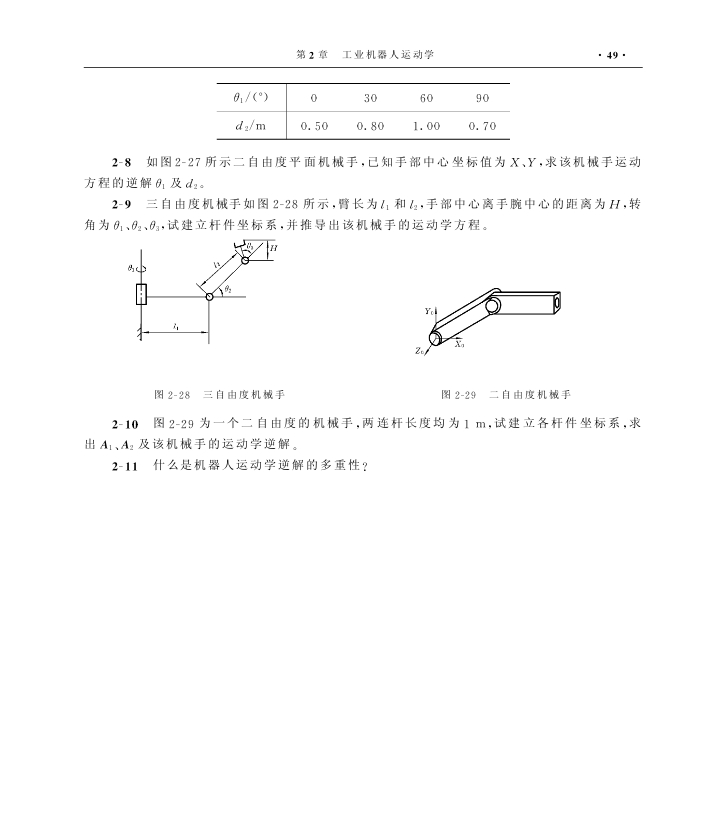table: (216, 83, 510, 140)
